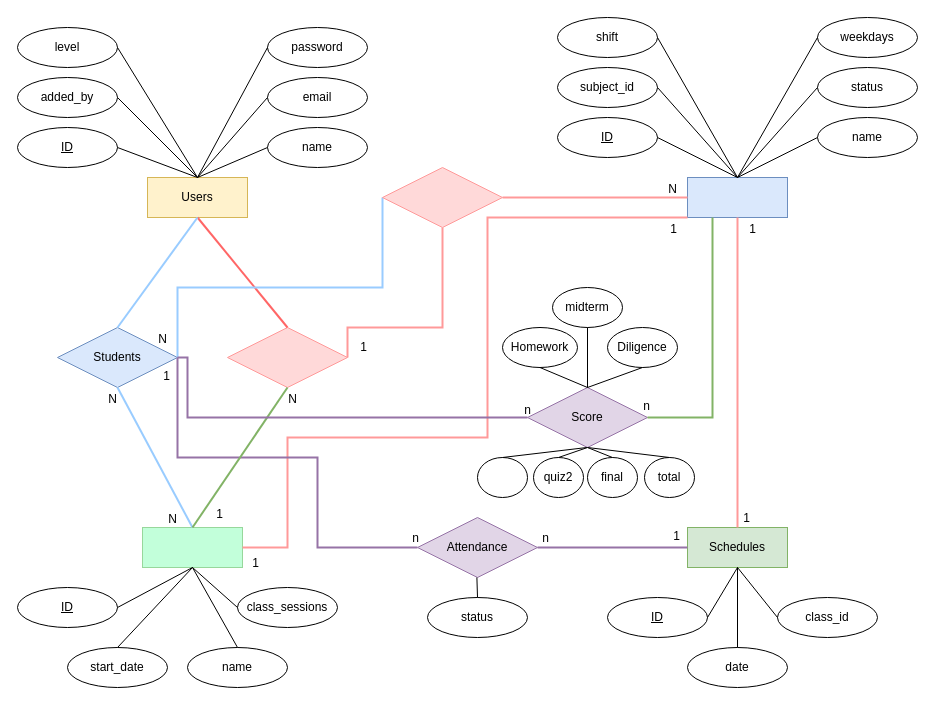
This 935x705 diagram has some shape labels left out. The shapes that lost their labels are listed below. From the top down, each one's centre as x and y in pixels, then its label:
pixel 442 197: Class_students
pixel 737 197: Classes
pixel 287 357: Teachers
pixel 502 477: quiz1
pixel 192 547: Subjects
